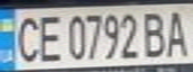0: (63, 11, 87, 62)
2: (118, 9, 142, 60)
7: (84, 10, 106, 61)
9: (103, 10, 124, 61)
A: (163, 7, 193, 58)
B: (139, 8, 172, 59)
C: (9, 11, 45, 64)
E: (33, 11, 66, 63)
